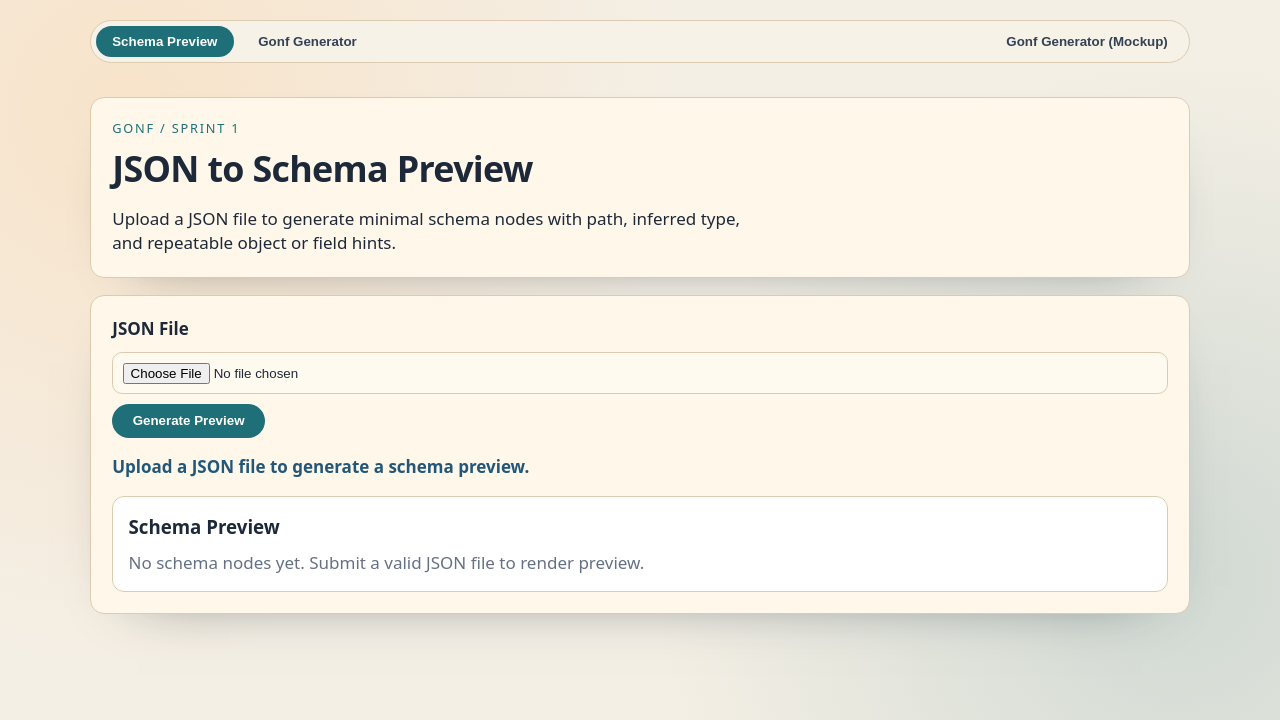
Test: App › shows validation error when submit is clicked without a file
Click the button "Generate Preview".
click(189, 421)  # box [112, 404, 265, 438]
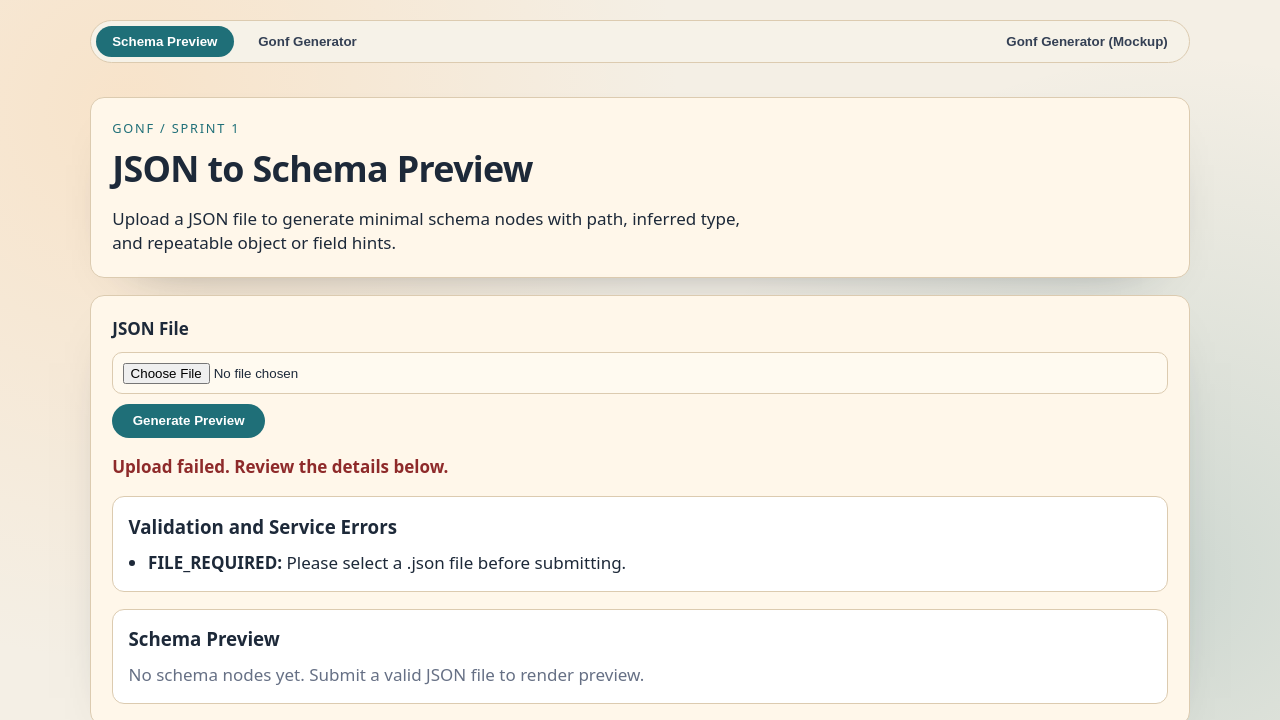
Expected: the text "FILE_REQUIRED:" is shown, [148, 551, 282, 574]
Expected: the list item "FILE_REQUIRED: Please select a .json file before submitting." is shown, [148, 551, 626, 574]
